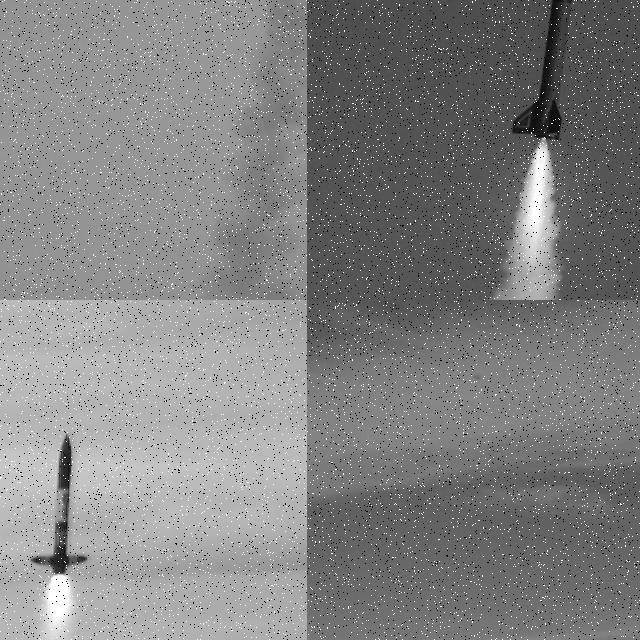Rocket: (512, 0, 576, 141), (28, 431, 88, 575)
